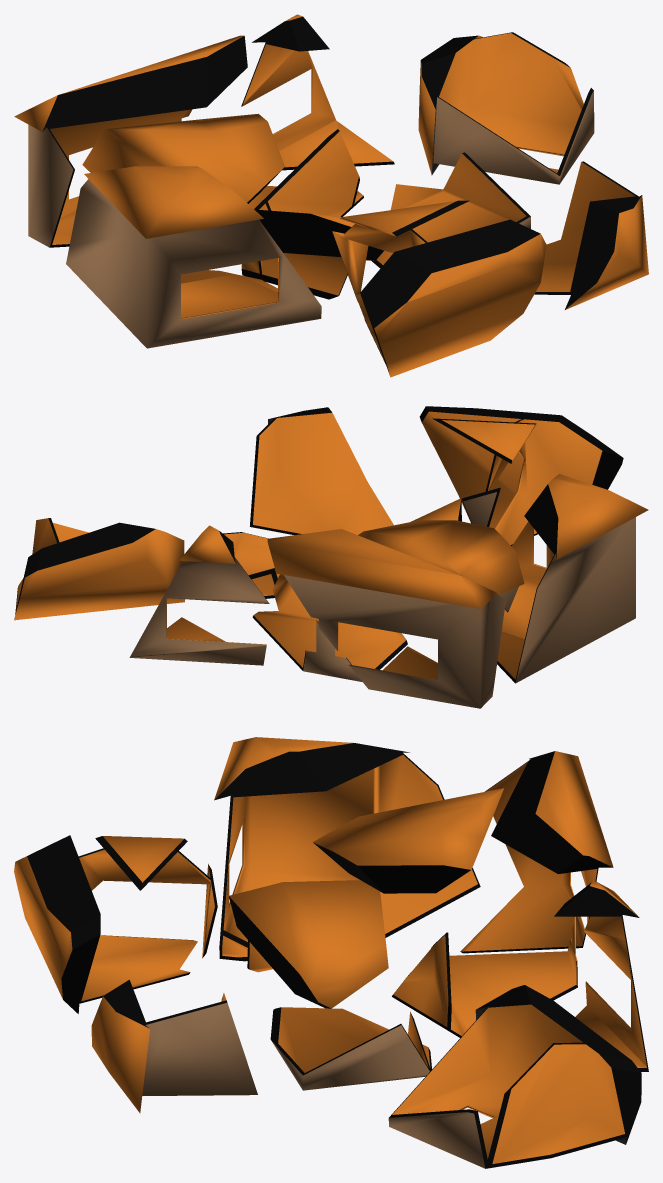
File: brokenHouse1.fbx
3 renders of one model, top to bottom at view 1: azimuth 30°, elevation 25°; view 2: azimuth 150°, elevation 25°; view 3: azimuth 270°, elevation 25°, orthographic. The views are drawn at different scales.
Visible parts, largest first — view 1: Cube; view 2: Cube; view 3: Cube.
Boxes of the visible parts, x1,y1,x2,y2 form: Cube: [14, 14, 648, 377]; Cube: [14, 406, 648, 708]; Cube: [14, 737, 648, 1168].
Bounding box in the file's own units: 4328 × 1087 × 3873.
